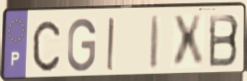B: (208, 13, 241, 70)
C: (31, 19, 62, 74)
G: (65, 16, 98, 74)
I: (148, 13, 163, 72), (105, 15, 116, 73)
X: (170, 13, 206, 72)
